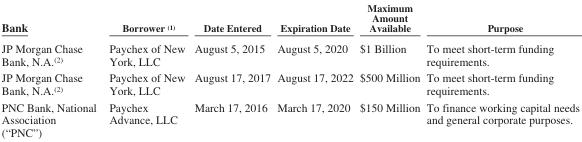table: (0, 1, 579, 138)
table column: (422, 1, 579, 138), (0, 1, 102, 138), (102, 1, 189, 138), (189, 1, 273, 138), (273, 1, 355, 138), (355, 1, 422, 138)
table column header: (0, 1, 579, 37)
table row: (0, 98, 579, 138), (0, 1, 579, 37), (0, 37, 579, 68), (0, 68, 579, 98)
